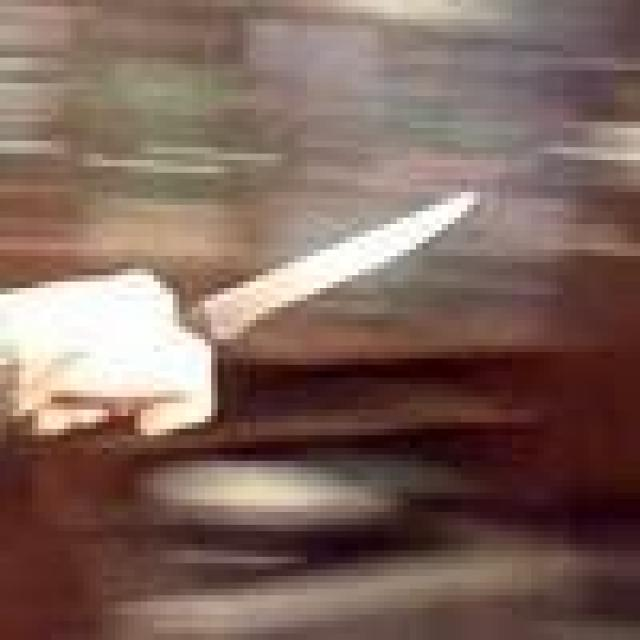senjata_tajam: (178, 186, 485, 343)
